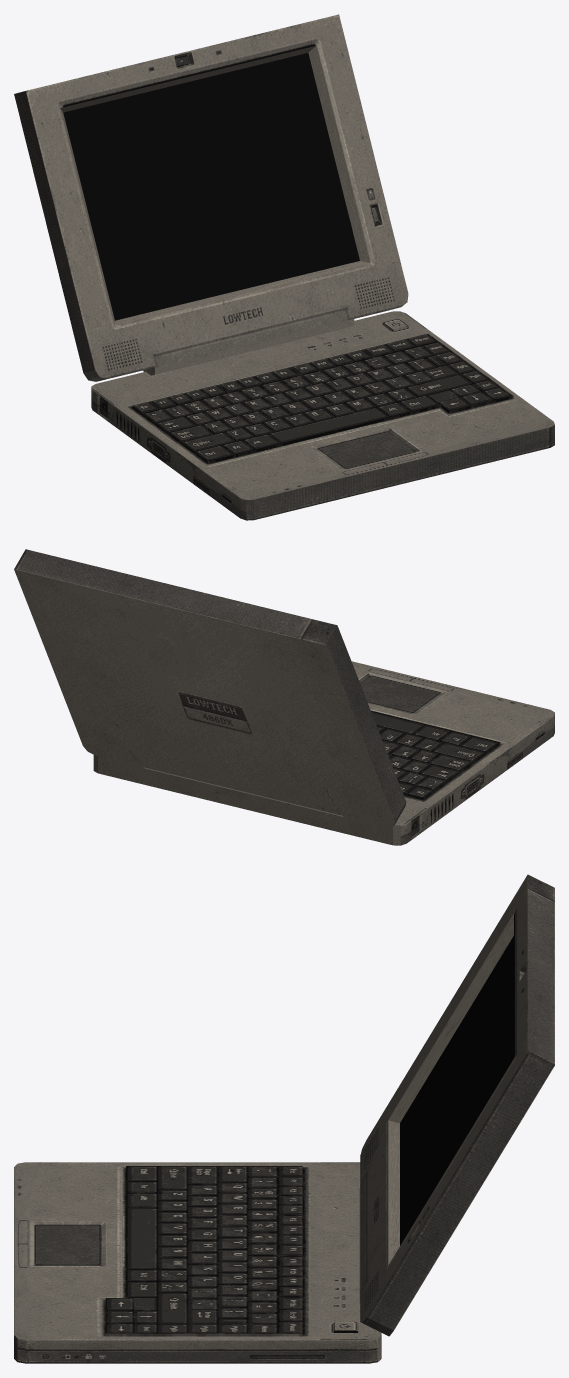
The model's file is old_low-poly_laptop__psx_retro_prop.glb.
The picture shows the model from 3 angles, top to bottom: view 1: azimuth 30°, elevation 25°; view 2: azimuth 150°, elevation 25°; view 3: azimuth 270°, elevation 25°; orthographic projection. The views are drawn at different scales.
Visible parts, largest first — view 1: Monitor_0, keyboard_1; view 2: Monitor_0, keyboard_1; view 3: keyboard_1, Monitor_0.
Part boxes in pixels (x1,y1,x2,y2): Monitor_0: (14,14,408,381); keyboard_1: (91,311,554,520); Monitor_0: (14,549,406,826); keyboard_1: (93,661,554,845); keyboard_1: (14,1162,381,1363); Monitor_0: (359,874,554,1336).
Bounding box in the file's own units: 2.01 × 1.64 × 2.58.
2 materials, 2 textured.
